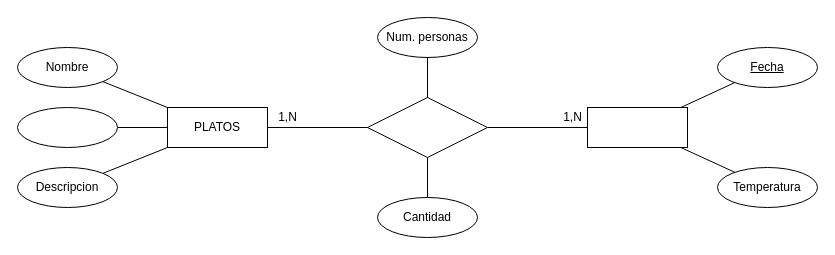
This 835x255 diagram has some shape labels left out. Here are the shapes that lost their labels. From the top down, the box of each, then its label:
(16, 106, 118, 148): Id. plato
(366, 96, 488, 158): FORMAN
(586, 106, 688, 148): MENU
